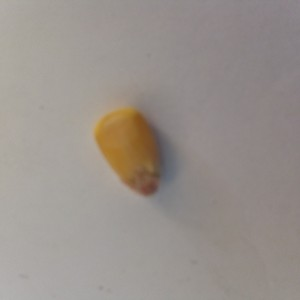maiz: (86, 104, 181, 203)
